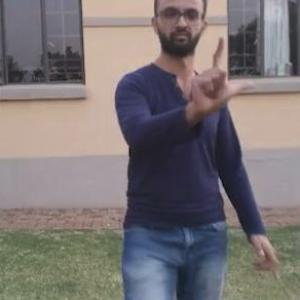land_hand: (187, 28, 253, 110)
